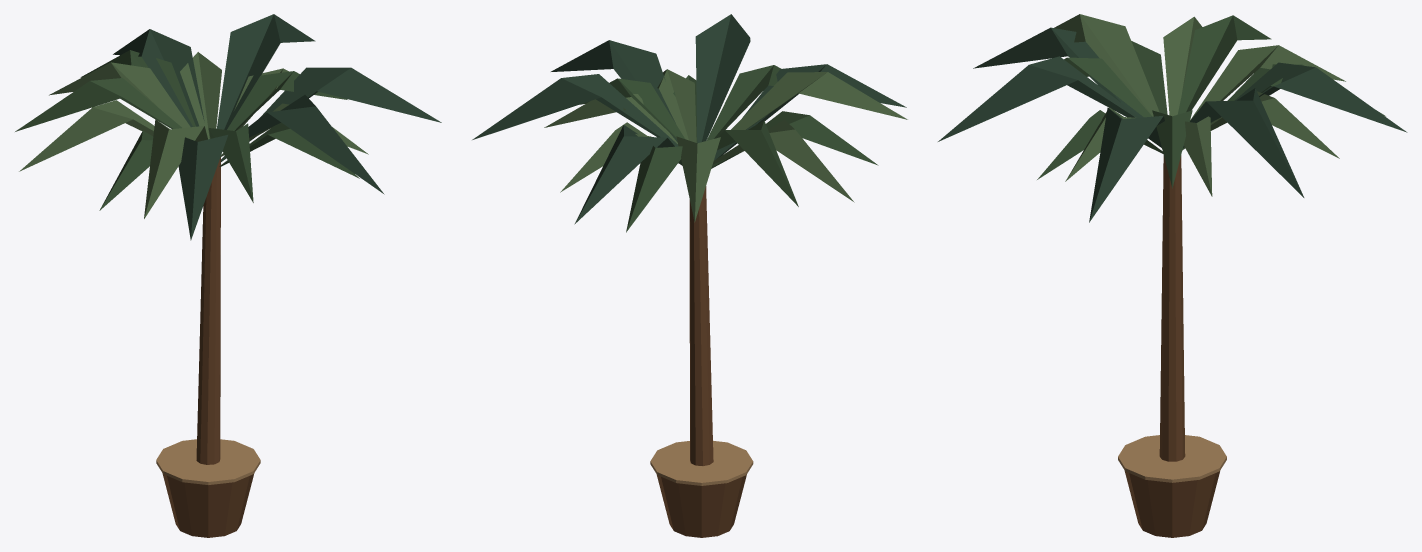
Rendered from tropical_tree.glb.
3 renders of one model, left to right at view 1: azimuth 30°, elevation 25°; view 2: azimuth 150°, elevation 25°; view 3: azimuth 270°, elevation 25°, orthographic. The views are drawn at different scales.
Visible parts, largest first — view 1: tropical_tree; view 2: tropical_tree; view 3: tropical_tree.
Boxes of the visible parts, x1,y1,x2,y2 form: tropical_tree: [15, 14, 441, 537]; tropical_tree: [472, 14, 907, 537]; tropical_tree: [938, 14, 1407, 537].
Bounding box in the file's own units: 3.73 × 4.46 × 3.98.
